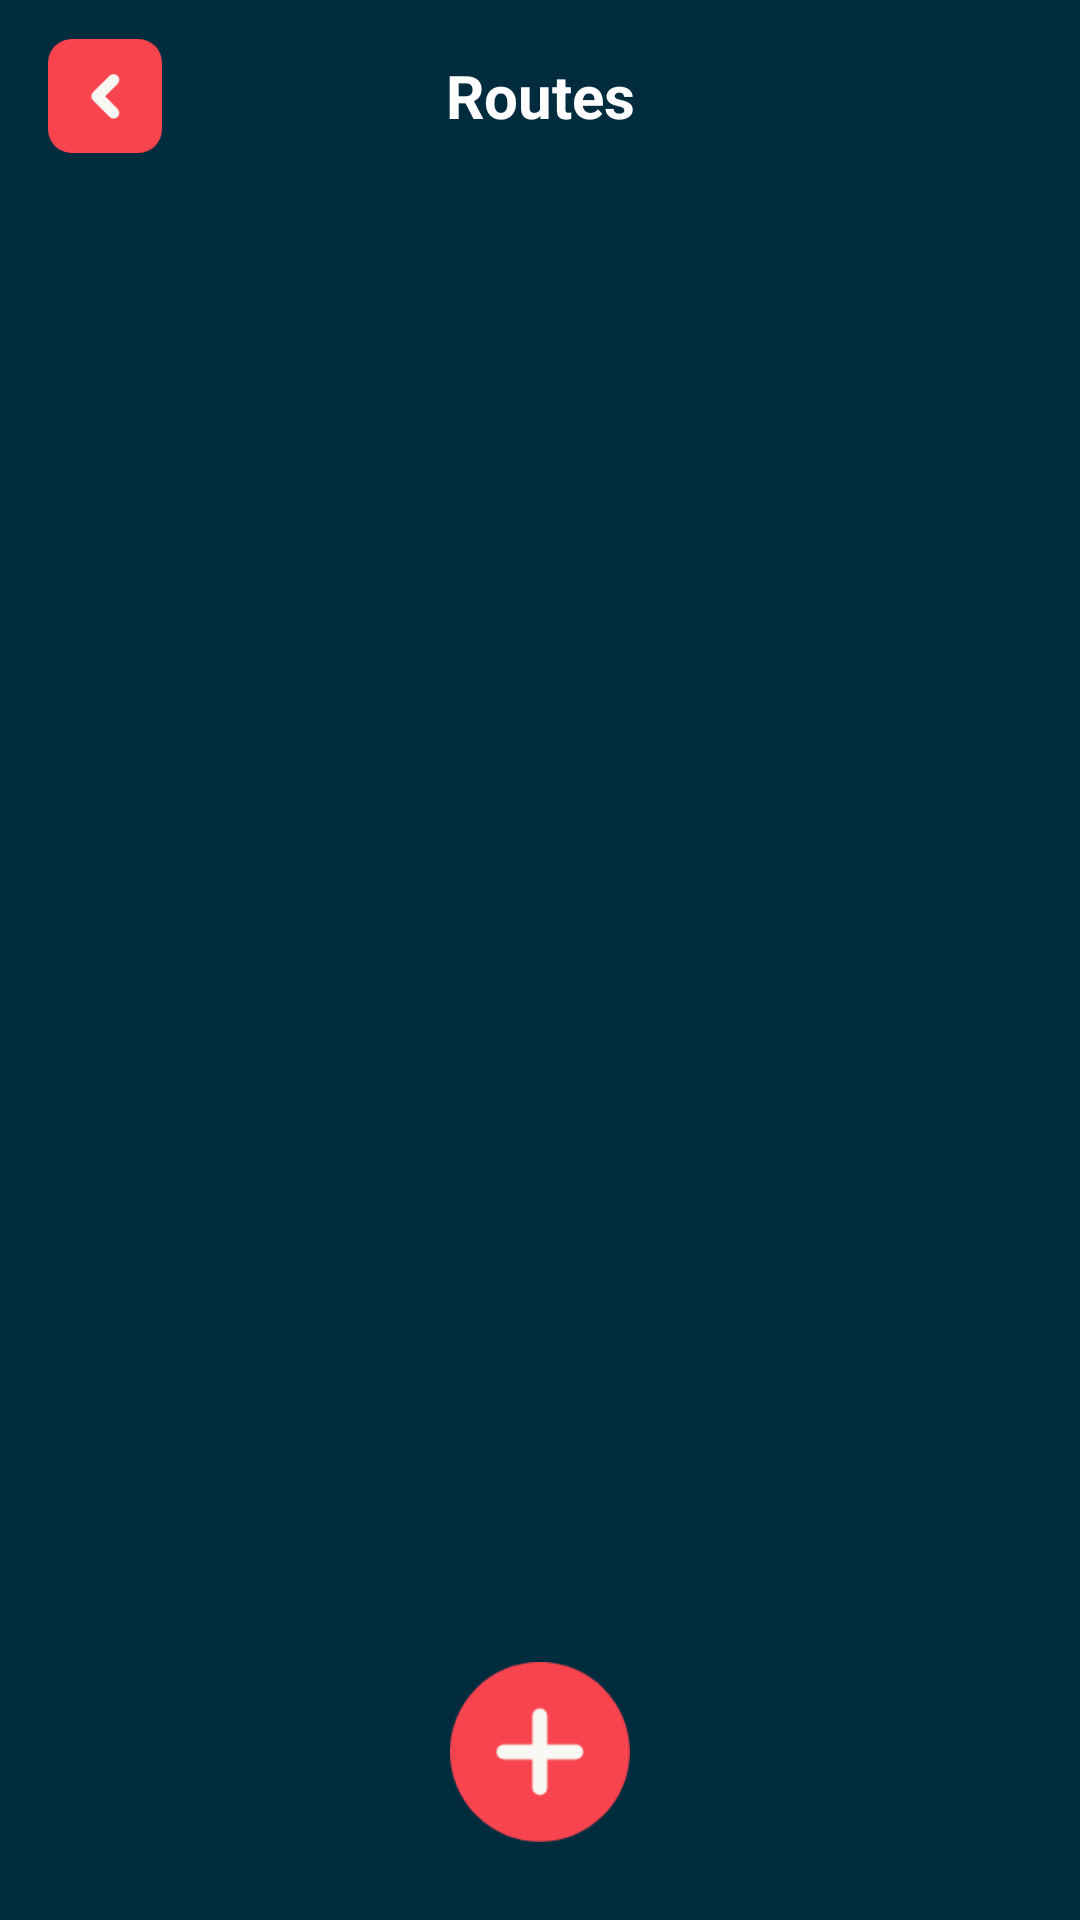

Icon click points for this 1080x1920 phone screenshot, format (x=x, y=y):
add routes: (x=540, y=1752)
navigate before: (x=105, y=96)
